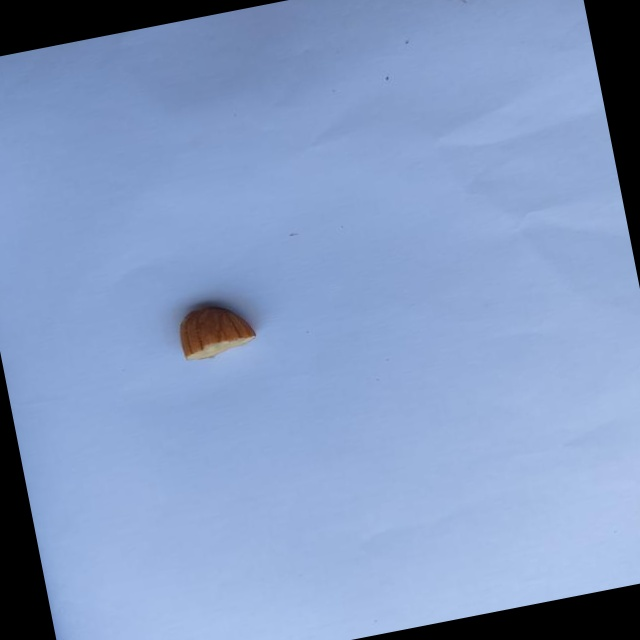grade4: (167, 290, 268, 369)
